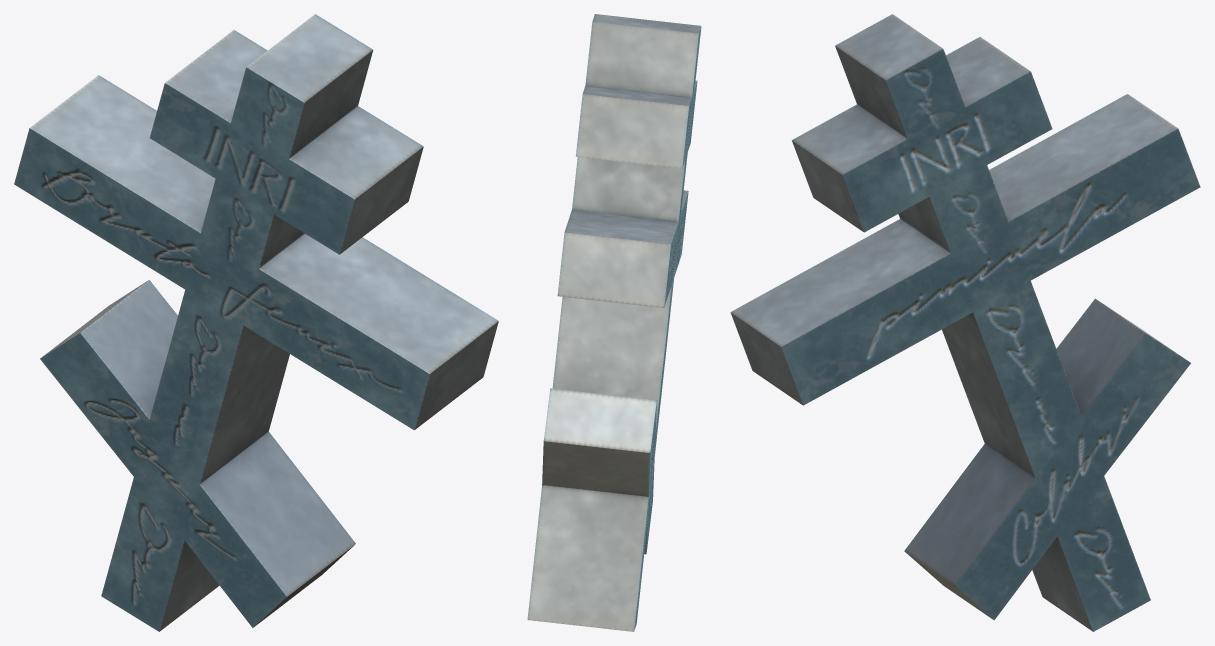
3 views of the same model, side by side, from view 1: azimuth 30°, elevation 25°; view 2: azimuth 150°, elevation 25°; view 3: azimuth 270°, elevation 25° (orthographic). The views are drawn at different scales.
Visible parts, largest first — view 1: Cruz_Orto_Cube.011; view 2: Cruz_Orto_Cube.011; view 3: Cruz_Orto_Cube.011.
Part boxes in pixels (<box>): Cruz_Orto_Cube.011: <box>14,14,498,631</box>; Cruz_Orto_Cube.011: <box>527,14,701,631</box>; Cruz_Orto_Cube.011: <box>730,14,1200,631</box>.
Size of the model in its own units: 1.29 by 2.69 by 1.93.
